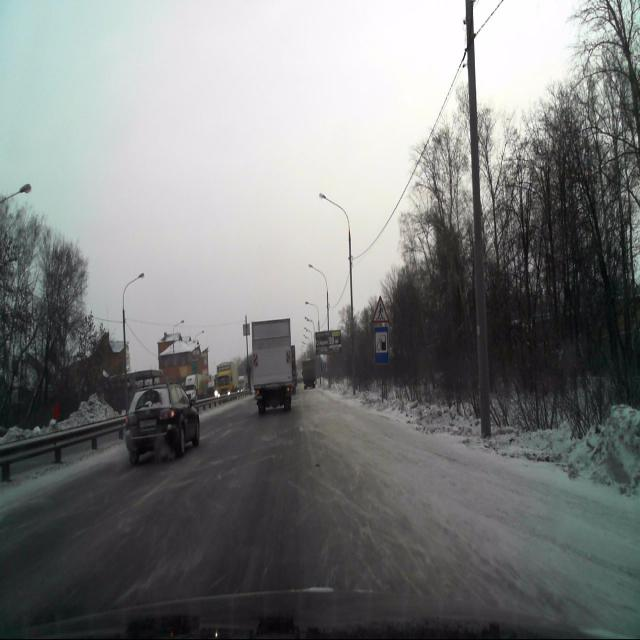road sign: (372, 295, 390, 324), (374, 327, 388, 363)
